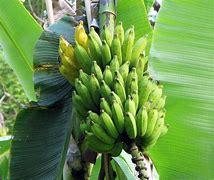banana: (50, 21, 174, 150), (60, 59, 170, 148), (55, 28, 145, 73)
